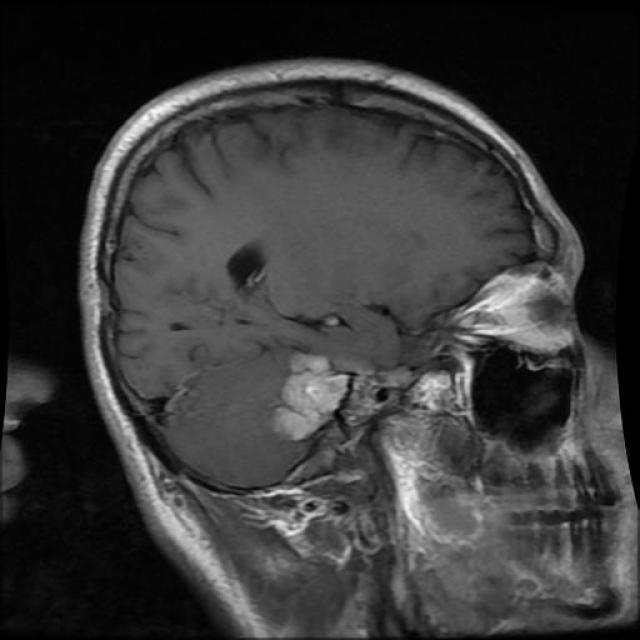meningioma: (275, 354, 349, 441)
